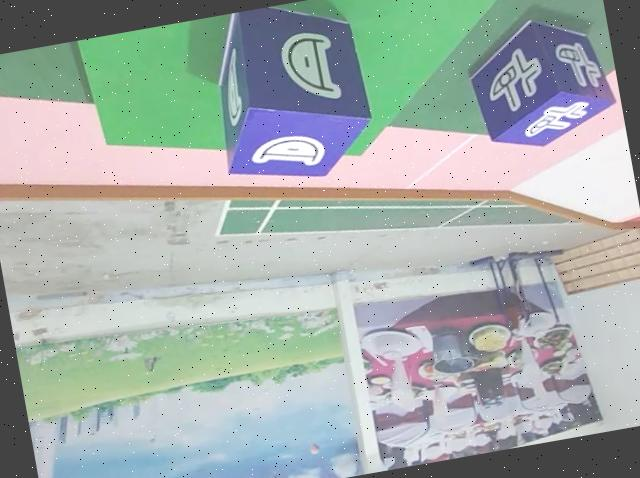R2 Real Blue: (196, 0, 382, 195), (458, 4, 618, 156)
